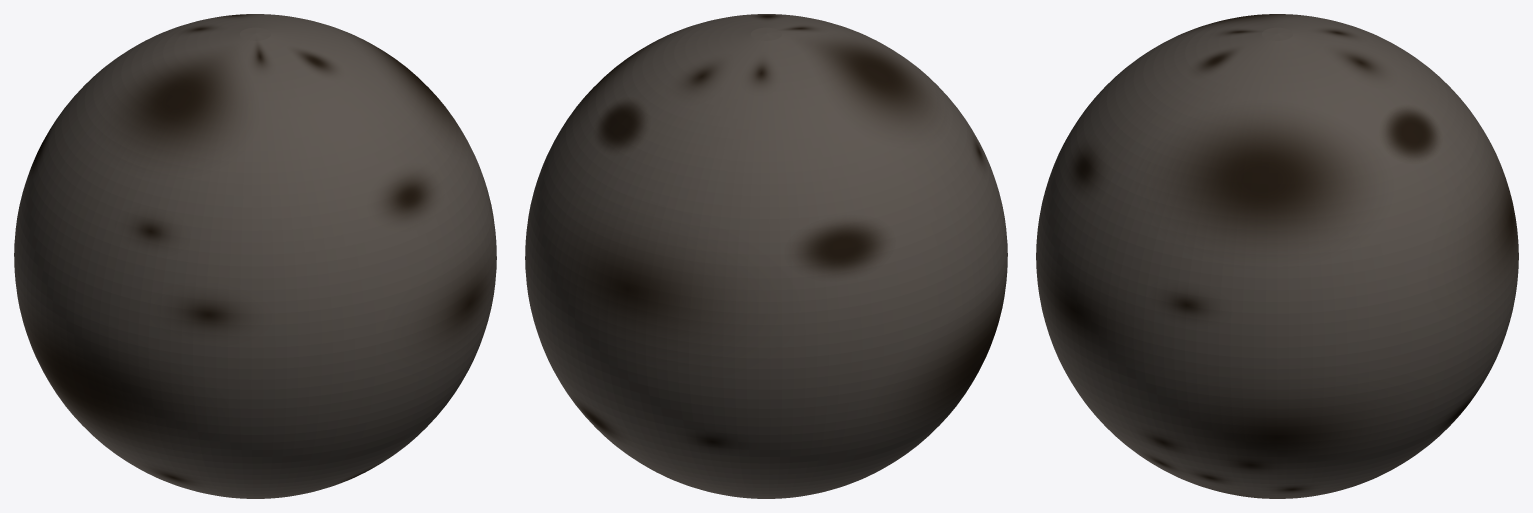
Rendered from moon.fbx.
The picture shows the model from 3 angles, left to right: view 1: azimuth 30°, elevation 25°; view 2: azimuth 150°, elevation 25°; view 3: azimuth 270°, elevation 25°; orthographic projection.
Visible parts, largest first — view 1: Sphere; view 2: Sphere; view 3: Sphere.
Part boxes in pixels (<box>): Sphere: <box>14,14,496,498</box>; Sphere: <box>525,14,1007,498</box>; Sphere: <box>1036,14,1518,498</box>.
Bounding box in the file's own units: 1.98 × 2.02 × 1.98.
